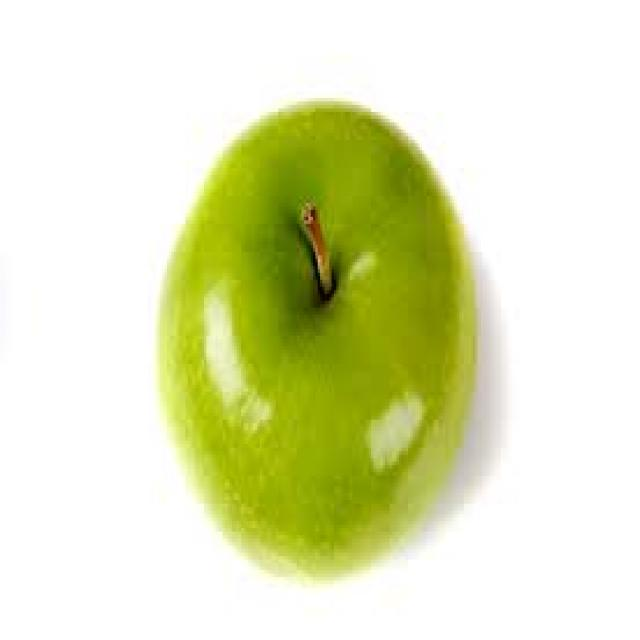organic waste: (160, 94, 478, 556)
